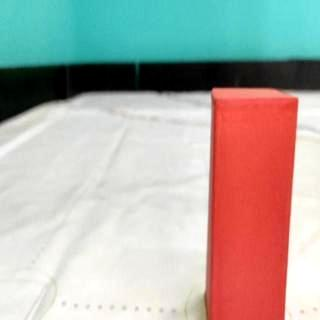redbox: (205, 88, 299, 320)
